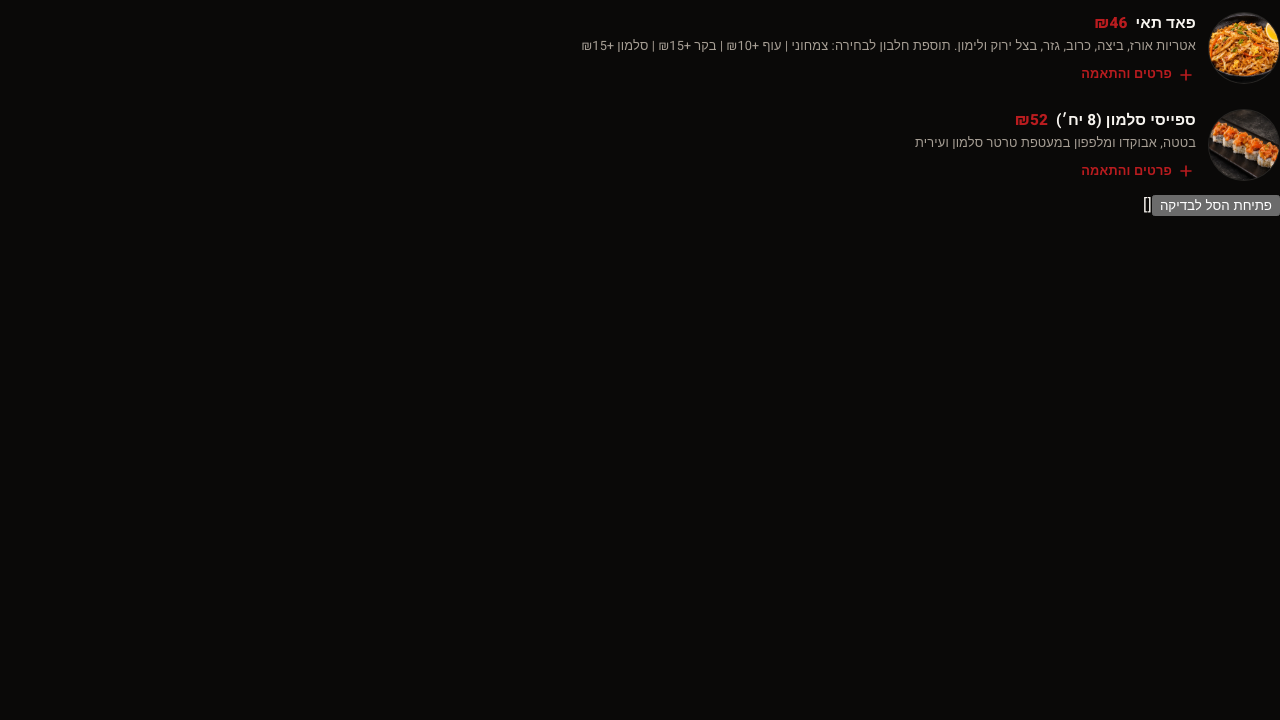
dish dialog and checkout UI › validates required choices before adding and keeps unsaved edits out of the cart
Step 1. Click the button with aria-label "פרטים והתאמה: פאד תאי" → {"x": 931, "y": 48}, box [581,12,1279,85]
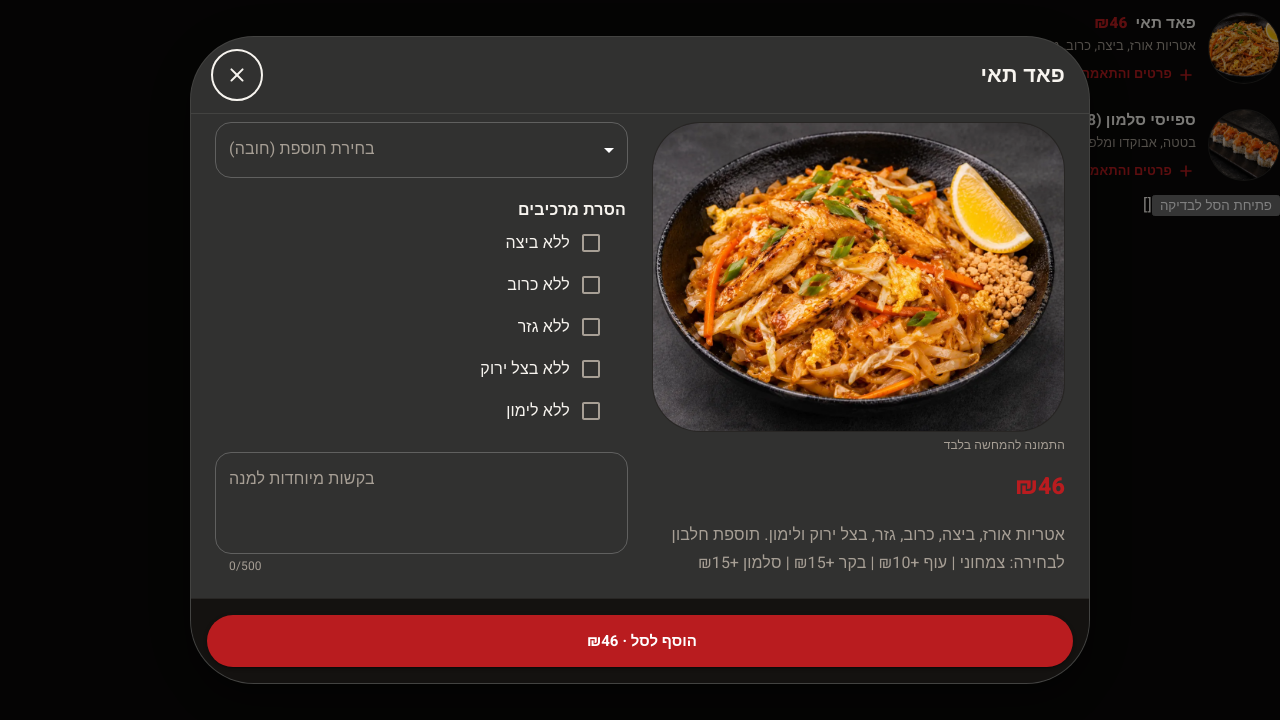
Step 2. Click the button "הוסף לסל · ₪46" → {"x": 640, "y": 641}, box [207,615,1073,667]
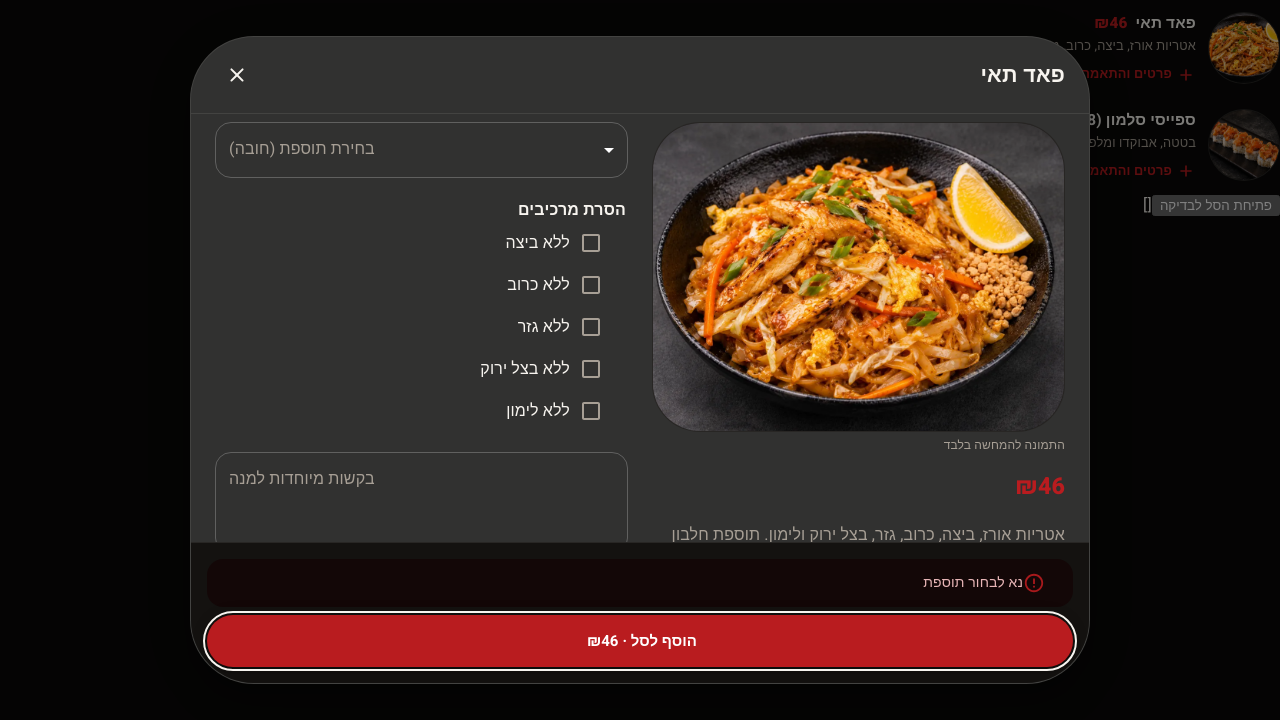
Now the message reads "נא לבחור תוספת", box [923,572,1023,593]
Step 3. Press Escape
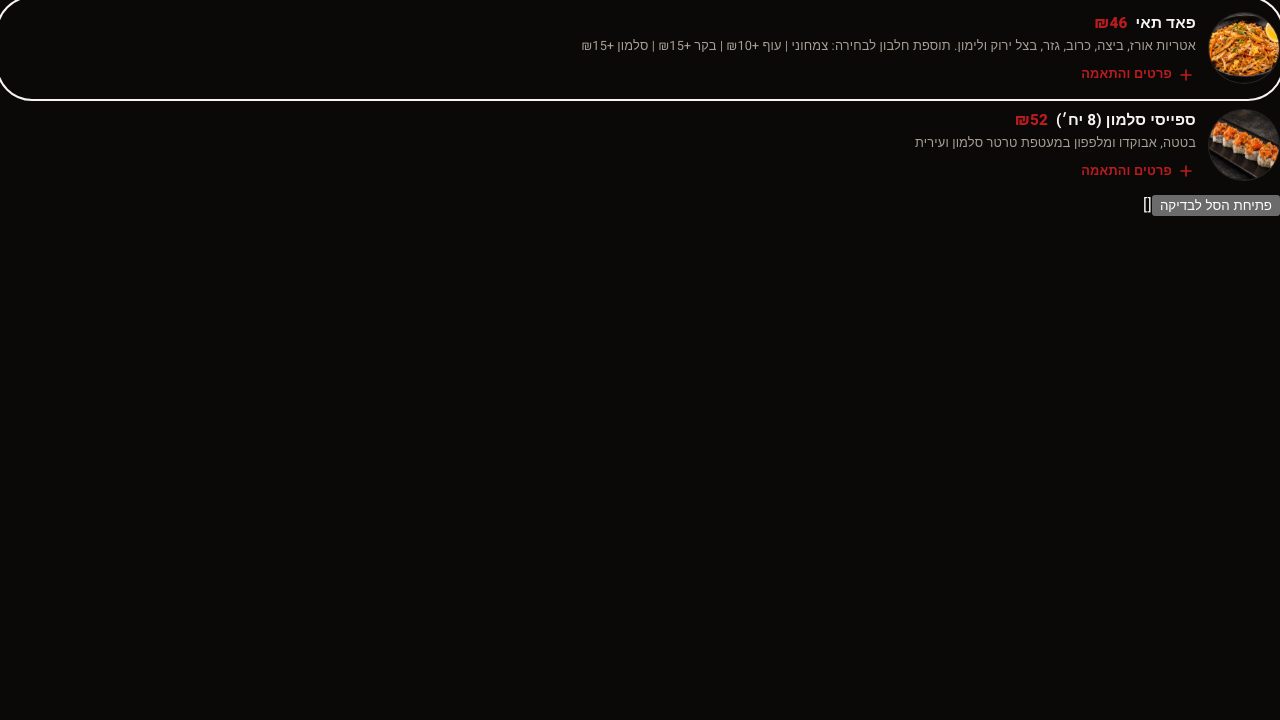
Now the dialog is gone
